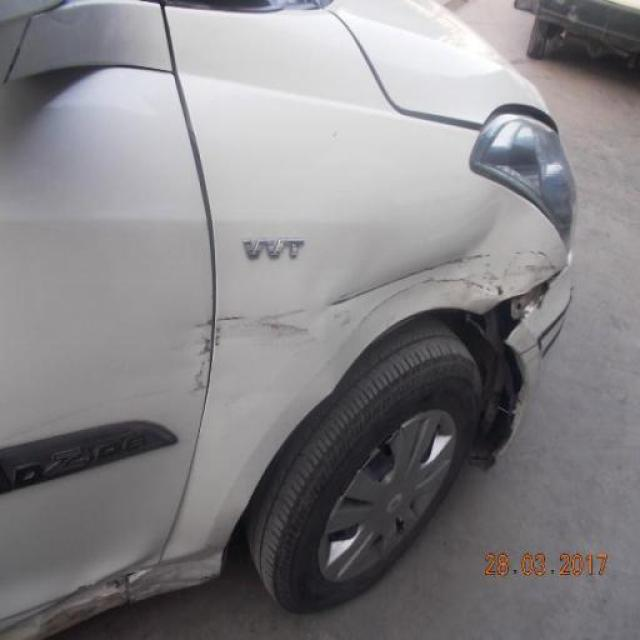scratch: (4, 548, 220, 640), (326, 253, 493, 335), (191, 315, 251, 397), (261, 306, 320, 346)
tear: (471, 262, 566, 369)
